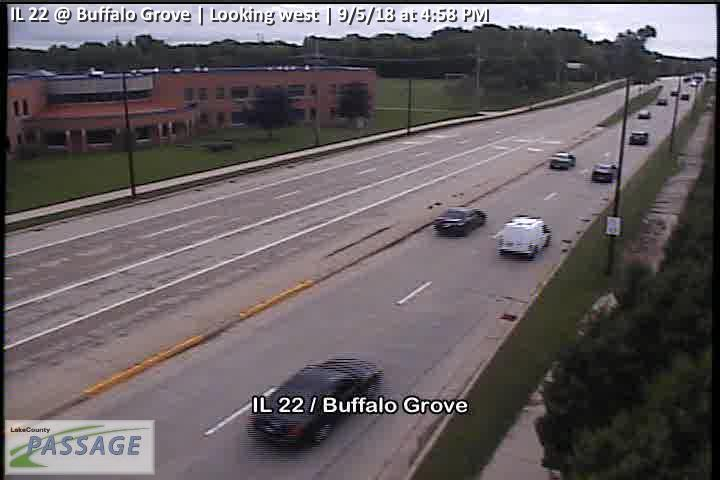Sedan: (248, 356, 382, 447), (435, 206, 487, 237), (549, 151, 576, 170), (592, 162, 617, 181), (629, 130, 649, 144)
Truck: (496, 215, 551, 260)
